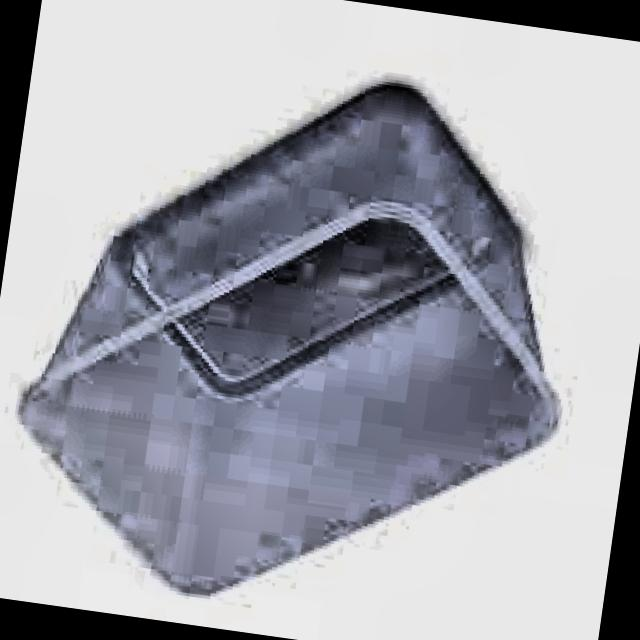plastic container: (22, 89, 557, 594)
